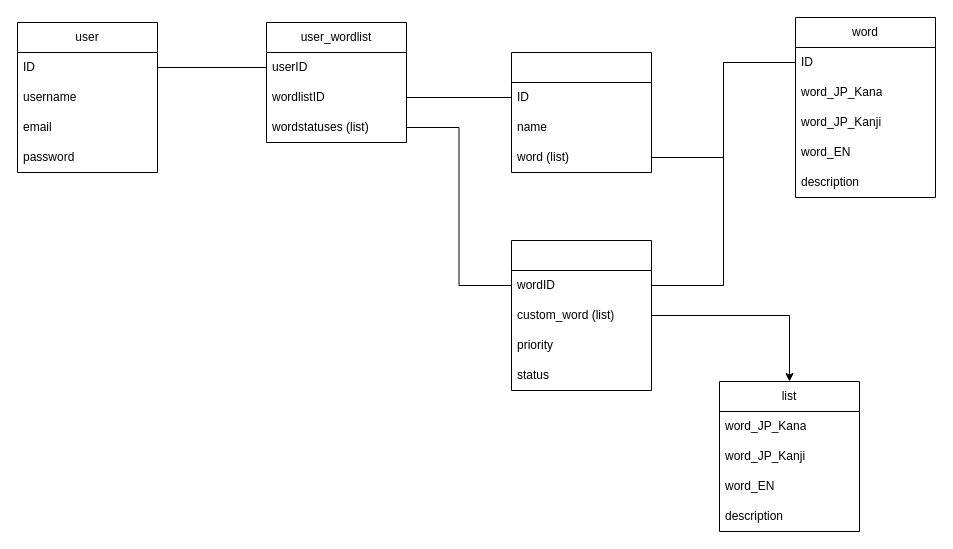
Image size: 953x549. Some labels were removed from this diagram. Here are the shapes that lost their labels. From the top down, the box of each, then its label:
(510, 52, 652, 172): wordlists
(510, 240, 652, 390): user_word
